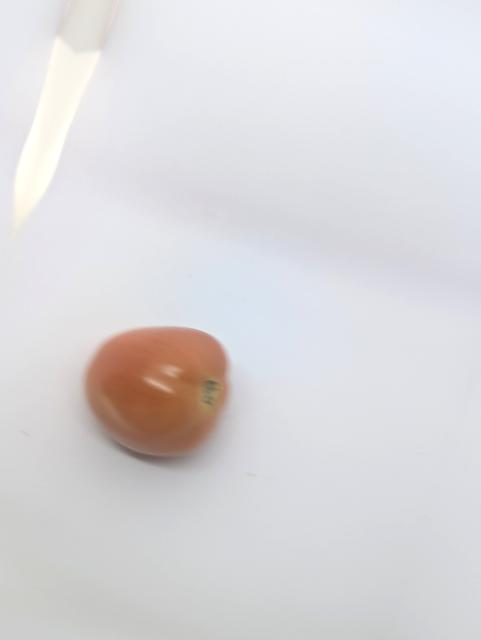turning: (78, 321, 240, 461)
